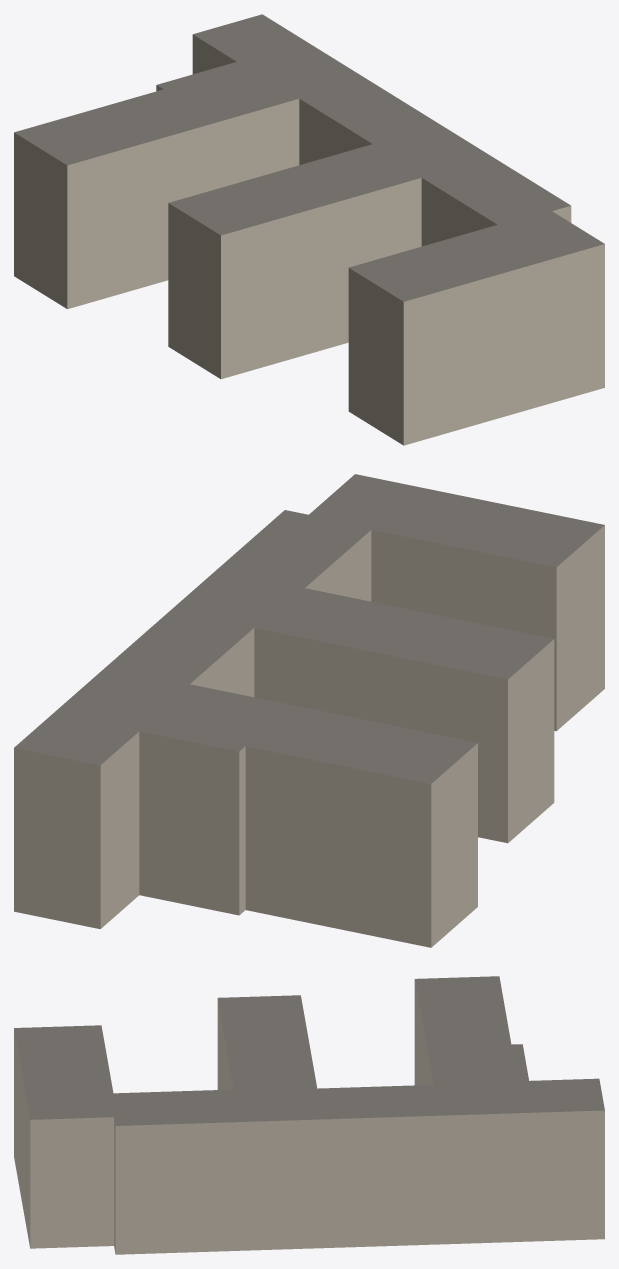
The picture shows the model from 3 angles, top to bottom: view 1: azimuth 30°, elevation 25°; view 2: azimuth 150°, elevation 25°; view 3: azimuth 270°, elevation 25°; orthographic projection. The views are drawn at different scales.
Parts seen in each view (by area): view 1: HP-w299010062; view 2: HP-w299010062; view 3: HP-w299010062.
Part boxes in pixels (box(x1,y1,x2,y2)): HP-w299010062: box(14, 14, 604, 445); HP-w299010062: box(14, 474, 604, 947); HP-w299010062: box(14, 976, 604, 1254).
Size of the model in its own units: 44.91 by 18 by 74.87.
